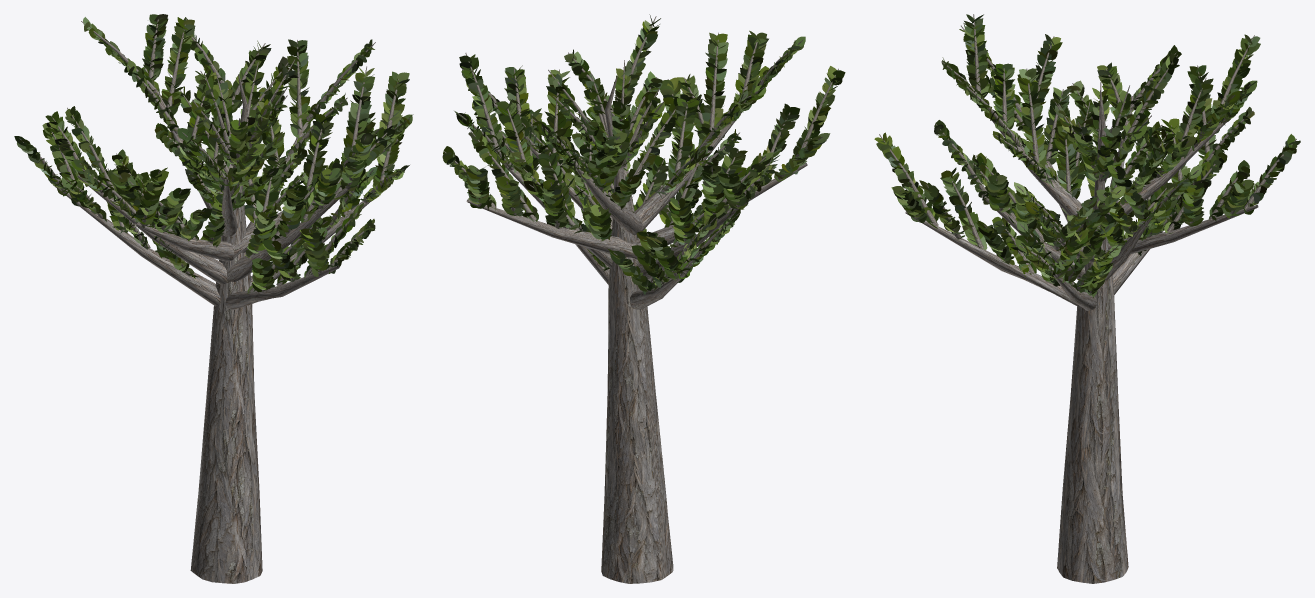
Rendered from mature-tree-v03-photo.glb.
3 views of the same model, side by side, from view 1: azimuth 30°, elevation 25°; view 2: azimuth 150°, elevation 25°; view 3: azimuth 270°, elevation 25° (orthographic).
Parts seen in each view (by area): view 1: individual photo-textured leaves, mature trunk, primary limb 5, primary limb 6, primary limb 10, primary limb 9, primary limb 7, primary limb 8; view 2: individual photo-textured leaves, mature trunk, primary limb 3, primary limb 8, primary limb 4, primary limb 5, primary limb 7, primary limb 6; view 3: individual photo-textured leaves, mature trunk, primary limb 9, primary limb 3, primary limb 4, primary limb 8, primary limb 5, primary limb 2, primary limb 1.
Boxes of the visible parts, x1,y1,x2,y2 form: individual photo-textured leaves: (14, 14, 413, 293); mature trunk: (190, 204, 262, 583); primary limb 5: (53, 185, 220, 306); primary limb 6: (77, 175, 228, 284); primary limb 10: (227, 187, 350, 281); primary limb 9: (225, 265, 339, 309); primary limb 7: (134, 222, 234, 261); primary limb 8: (221, 177, 237, 236); individual photo-textured leaves: (442, 14, 845, 294); mature trunk: (601, 199, 673, 583); primary limb 3: (466, 199, 636, 258); primary limb 8: (633, 112, 741, 231); primary limb 4: (576, 168, 643, 235); primary limb 5: (630, 271, 686, 309); primary limb 7: (635, 163, 807, 258); primary limb 6: (636, 202, 747, 279); individual photo-textured leaves: (874, 14, 1300, 297); mature trunk: (1057, 207, 1128, 583); primary limb 9: (905, 211, 1077, 305); primary limb 3: (1107, 205, 1258, 254); primary limb 4: (1107, 119, 1229, 214); primary limb 8: (992, 120, 1087, 218); primary limb 5: (1112, 209, 1175, 294); primary limb 2: (1105, 214, 1152, 280); primary limb 1: (1052, 273, 1097, 310).
Bounding box in the file's own units: 6.2 × 8.69 × 6.66.
2 materials, 2 textured.
